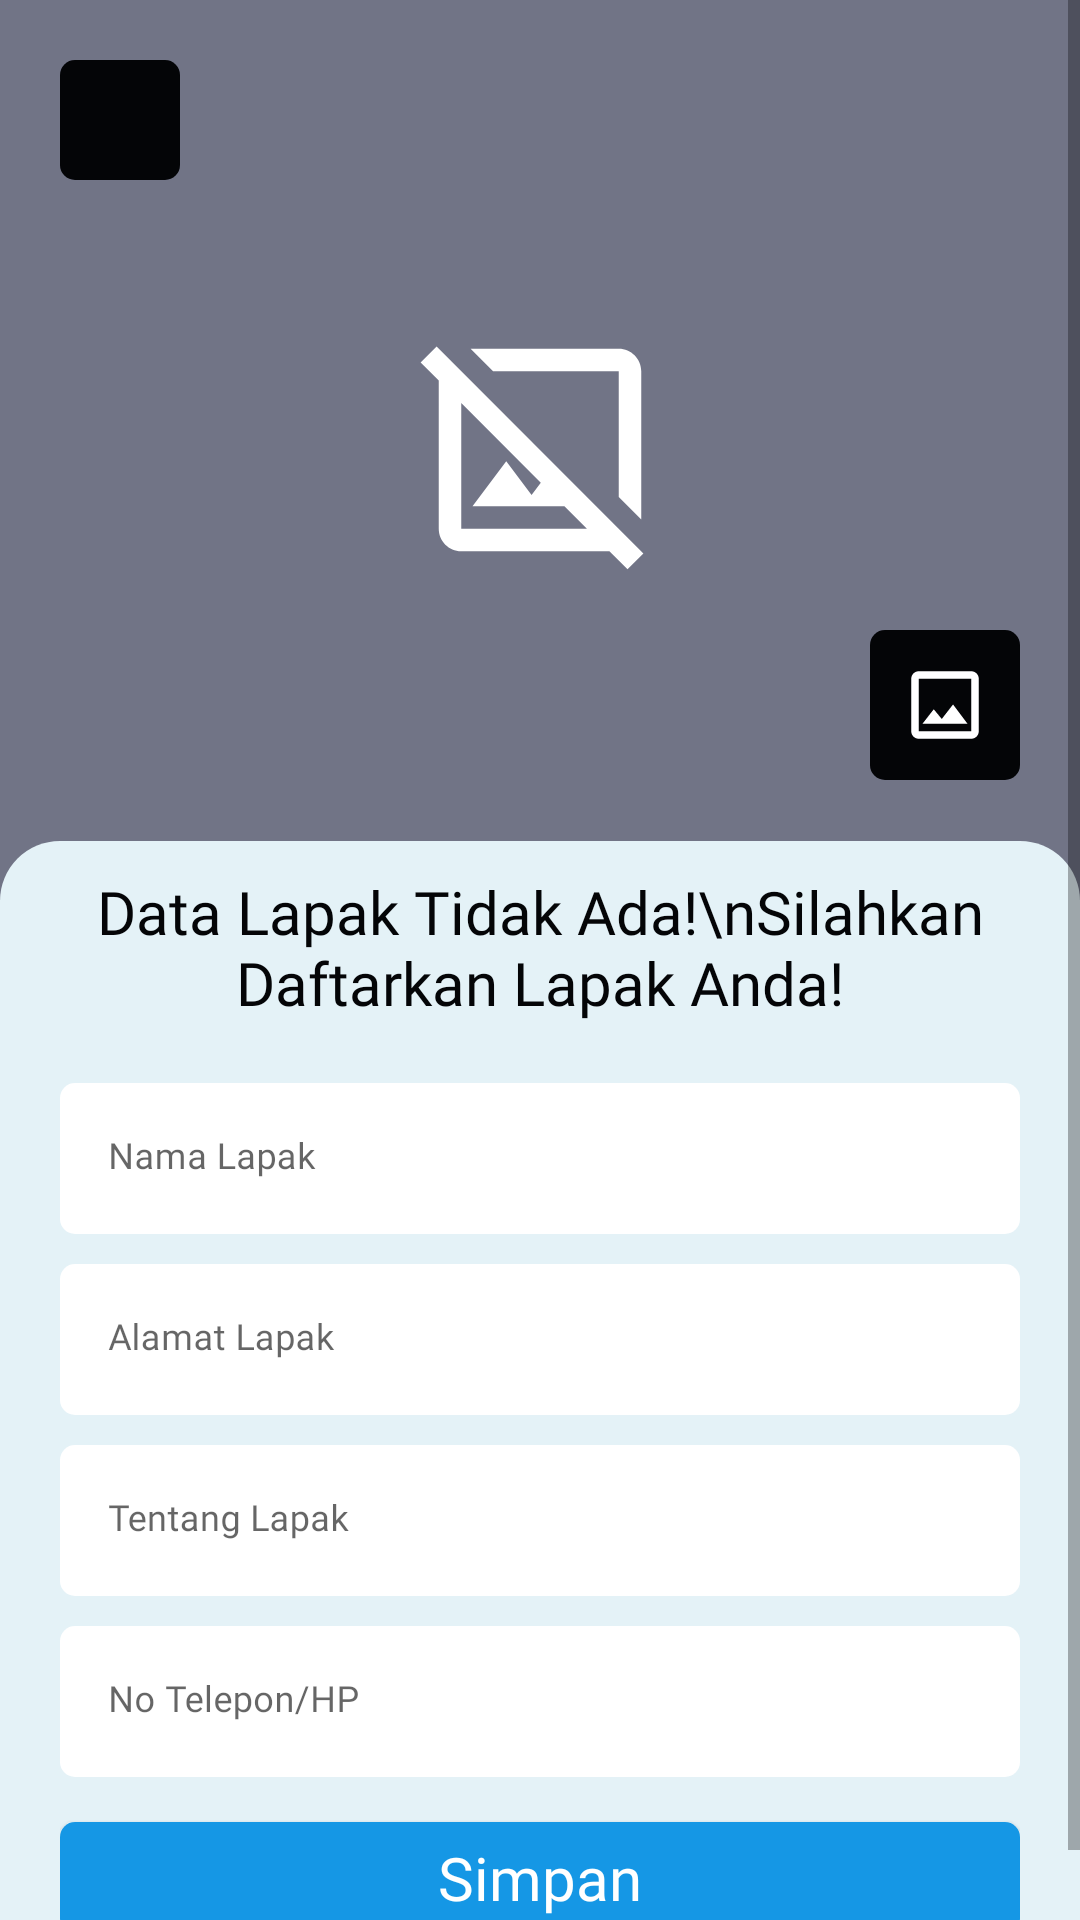

Icons on this 1080px x 1920px Android screen, each with the point to tap as (x=x, y=y):
pilih gambar: (x=945, y=705)
tidak ada gambar: (x=532, y=457)
